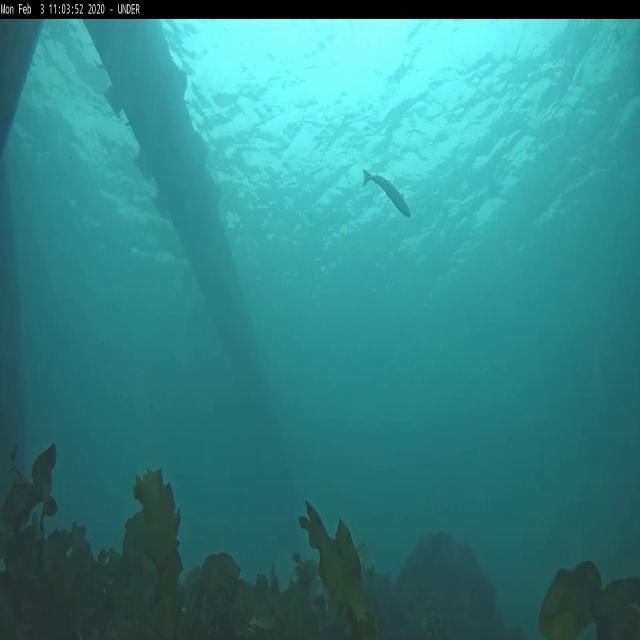fish: (362, 169, 412, 219)
